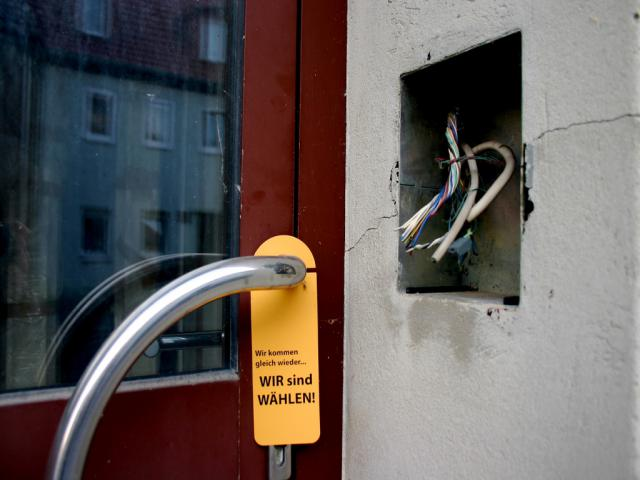Door-handle: (49, 253, 306, 480)
